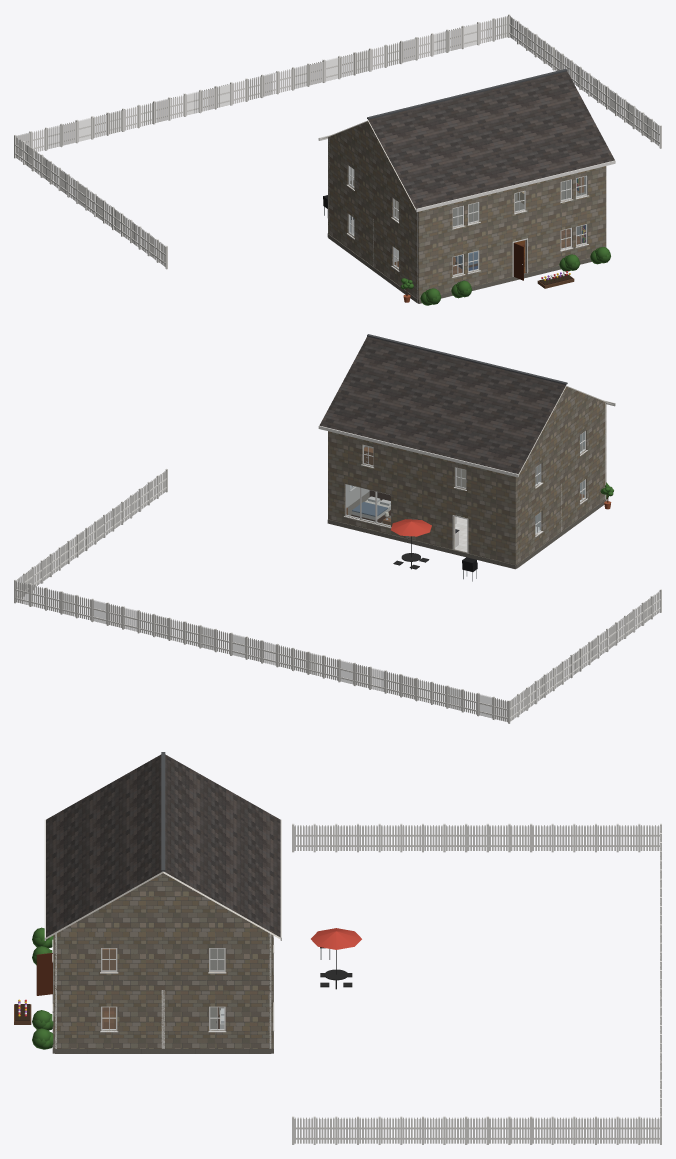
Rendered from house_N8.glb.
3 renders of one model, top to bottom at view 1: azimuth 30°, elevation 25°; view 2: azimuth 150°, elevation 25°; view 3: azimuth 270°, elevation 25°, orthographic. The views are drawn at different scales.
Parts seen in each view (by area): view 1: house_N8; view 2: house_N8; view 3: house_N8.
Boxes of the visible parts, x1,y1,x2,y2 form: house_N8: (14,14,661,305); house_N8: (14,334,661,723); house_N8: (14,752,661,1144).
Bounding box in the file's own units: 32.1 × 9.61 × 29.95.
Materials: 49 (9 with a texture image).
